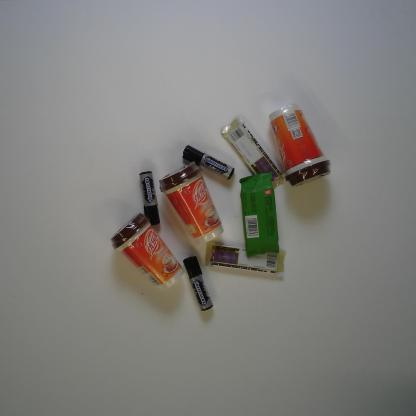Chocolate: (220, 116, 286, 191), (204, 240, 286, 274)
Dessert: (238, 170, 280, 258)
Instant Drink: (109, 212, 185, 293), (158, 160, 224, 246), (268, 103, 332, 188)
Stationery: (182, 144, 236, 181), (182, 255, 214, 312), (138, 170, 160, 227)
